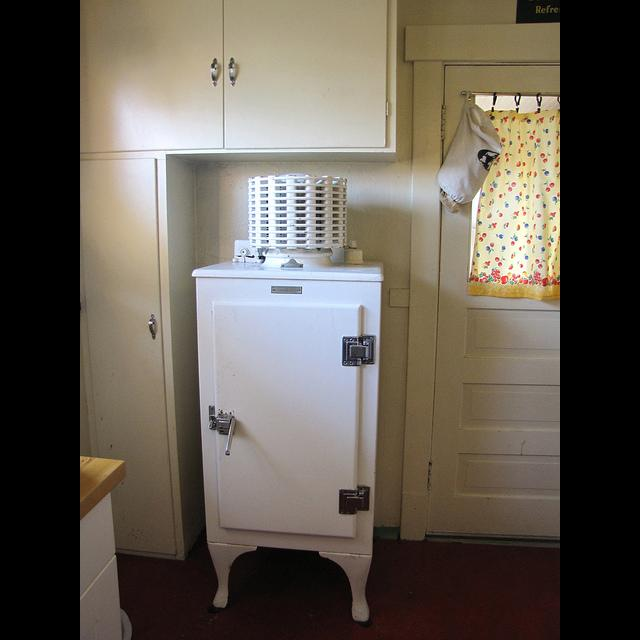Refrigerator: (192, 273, 386, 615)
